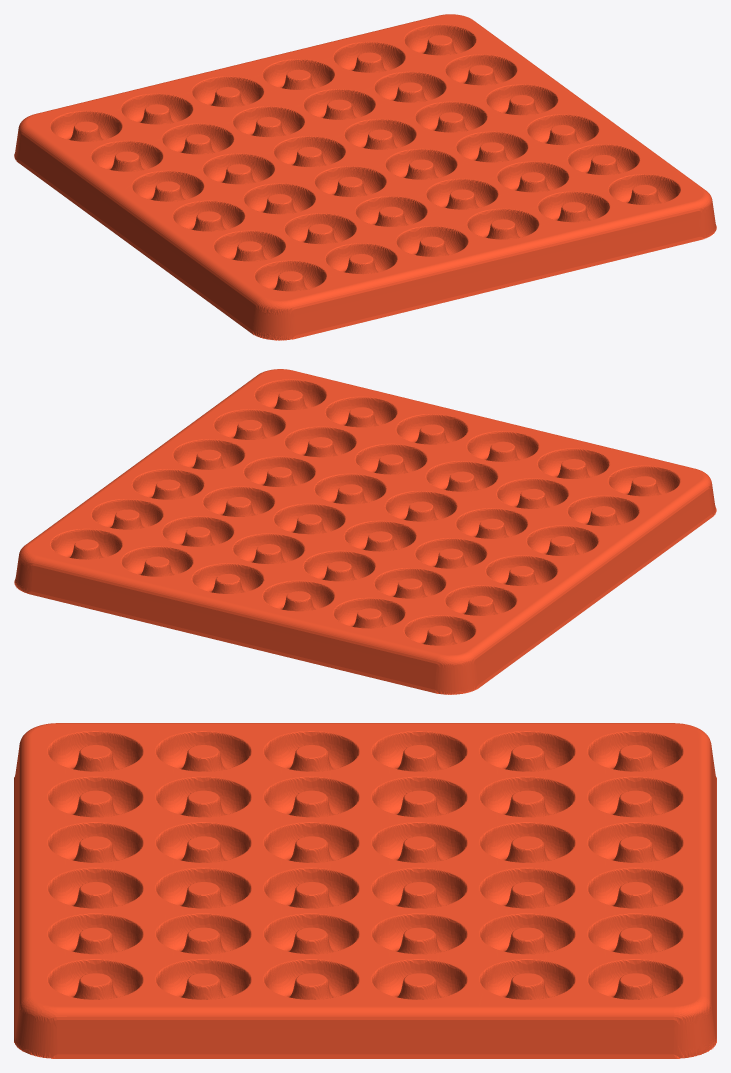
File: mold.glb
The picture shows the model from 3 angles, top to bottom: view 1: azimuth 30°, elevation 25°; view 2: azimuth 150°, elevation 25°; view 3: azimuth 270°, elevation 25°; orthographic projection. The views are drawn at different scales.
Visible parts, largest first — view 1: geometry_0; view 2: geometry_0; view 3: geometry_0.
Part boxes in pixels (bbox=[...]): geometry_0: bbox=[14, 14, 716, 340]; geometry_0: bbox=[14, 369, 716, 694]; geometry_0: bbox=[14, 723, 716, 1058].
Size of the model in its own units: 0.1447 by 0.0102 by 0.1447.
